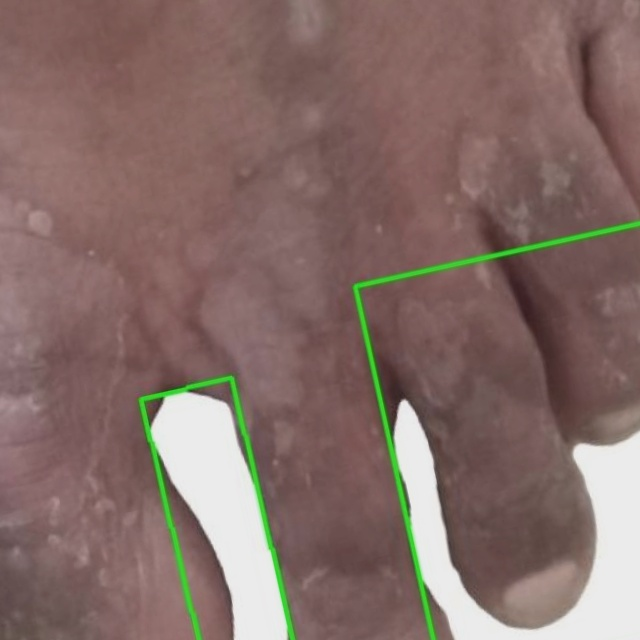Eczema: (355, 223, 639, 639), (141, 378, 293, 639)
